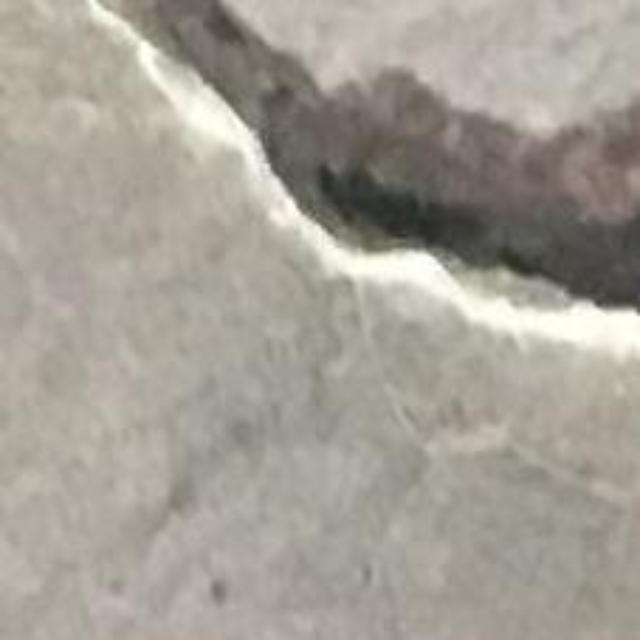crack: (96, 0, 639, 307)
